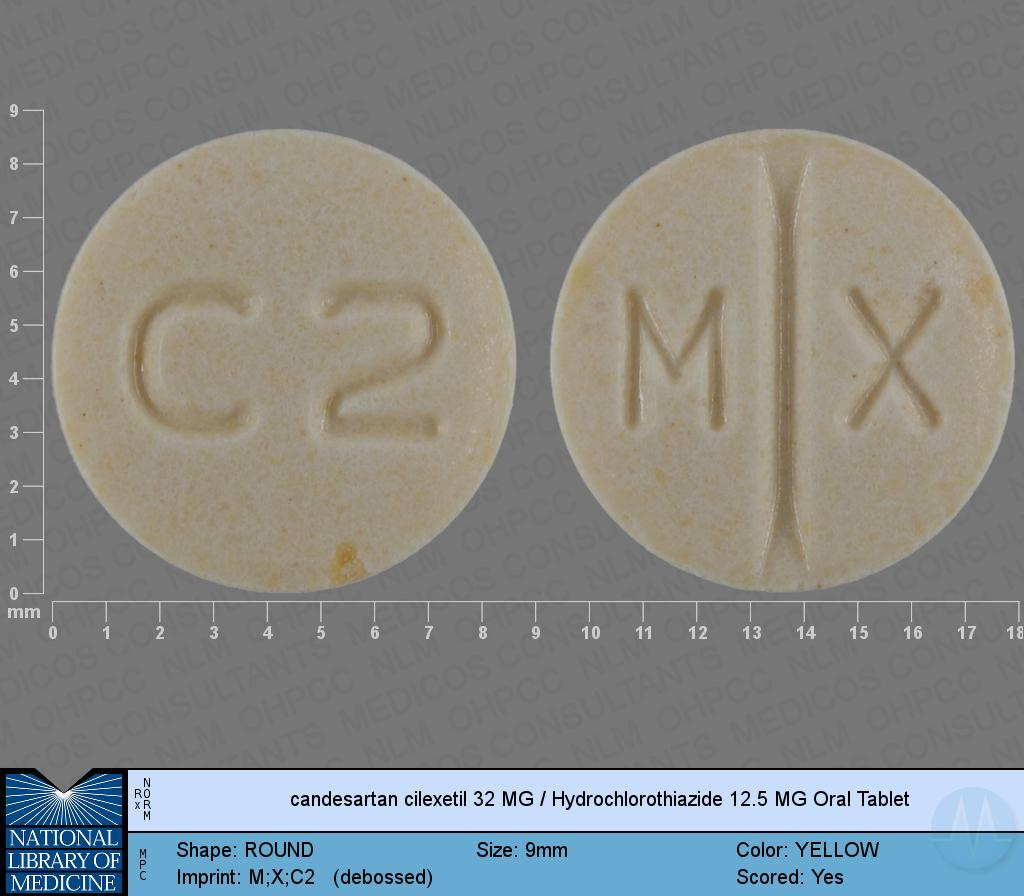Pill: (43, 117, 528, 603), (540, 118, 1024, 598)
